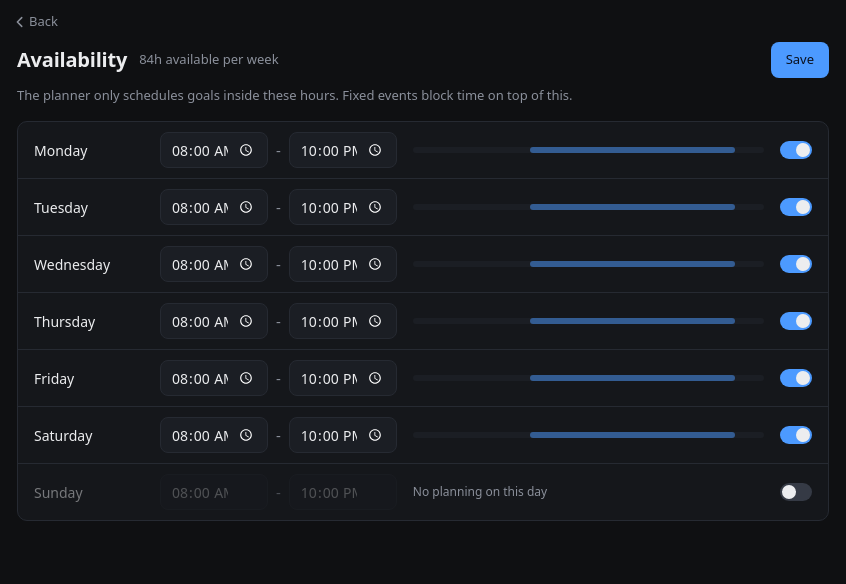
Test: AvailabilityPage per-day mode › validates open days only and sends all 7 days with closed, keeping closed days their times
Expected: the button "Save" is shown, [771,42,829,78]
Clear the time field named "Sunday end time" at (343,492), box [289,474,397,510]
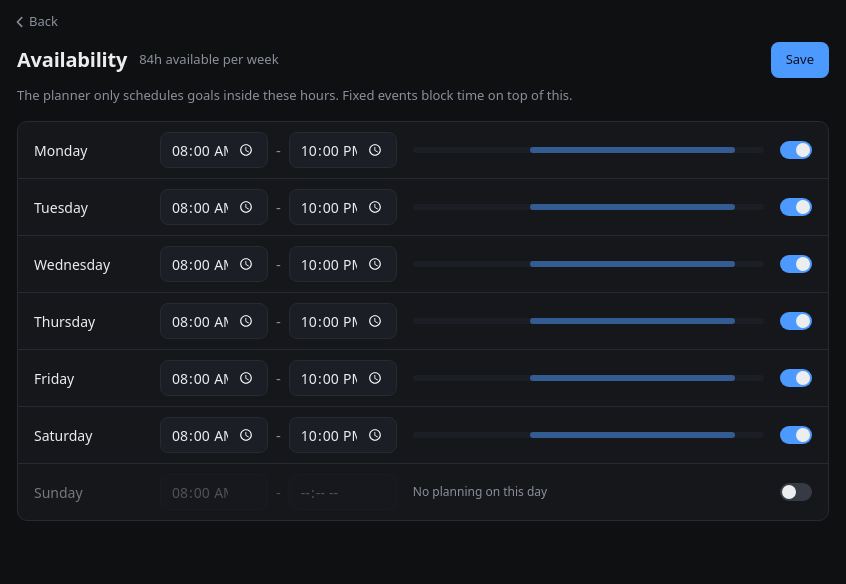
Replace the text in the time field named "Monday end time" with "07:00" at (343,150), box [289,132,397,168]
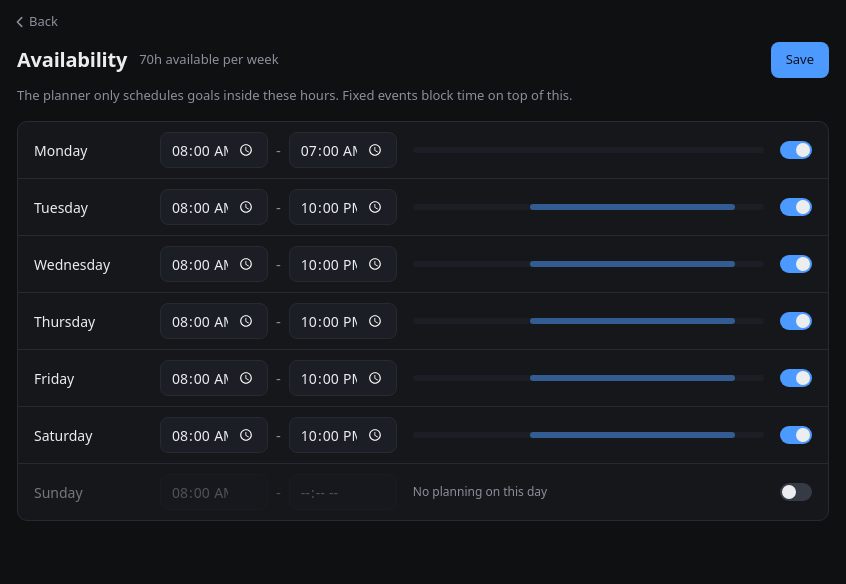
Click the button "Save" at (800,60), box [771,42,829,78]
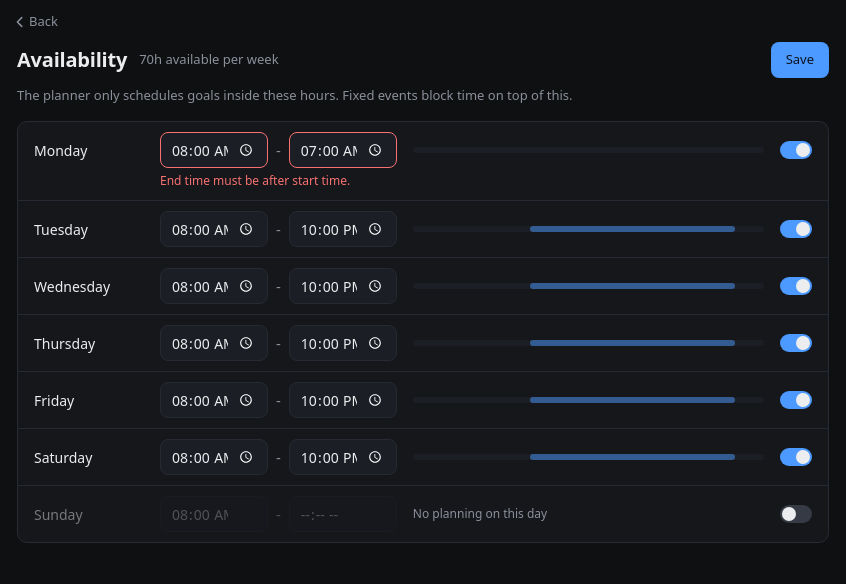
Result: the text "End time must be after start time." is shown once at [160,172,350,189]
Click the switch named "Plan on Monday" at (796,150), box [780,141,812,159]
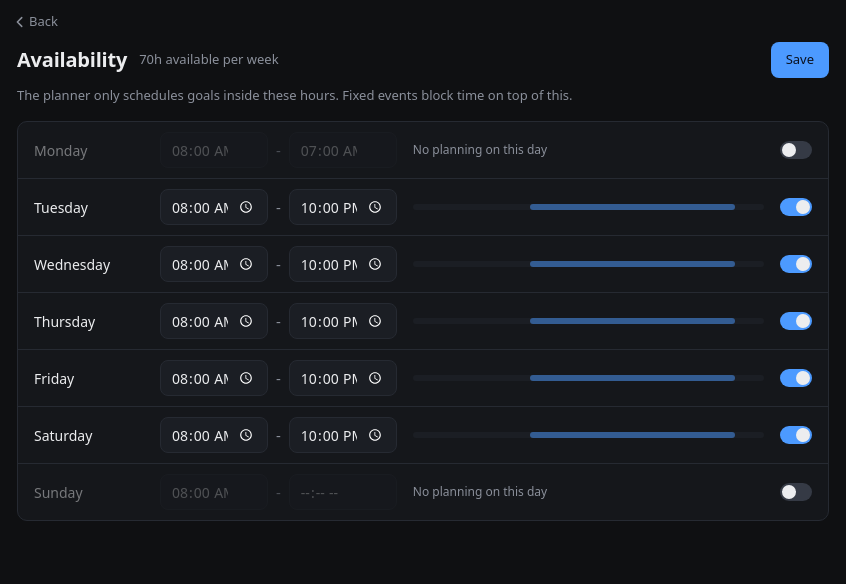
Click the button "Save" at (800,60), box [771,42,829,78]
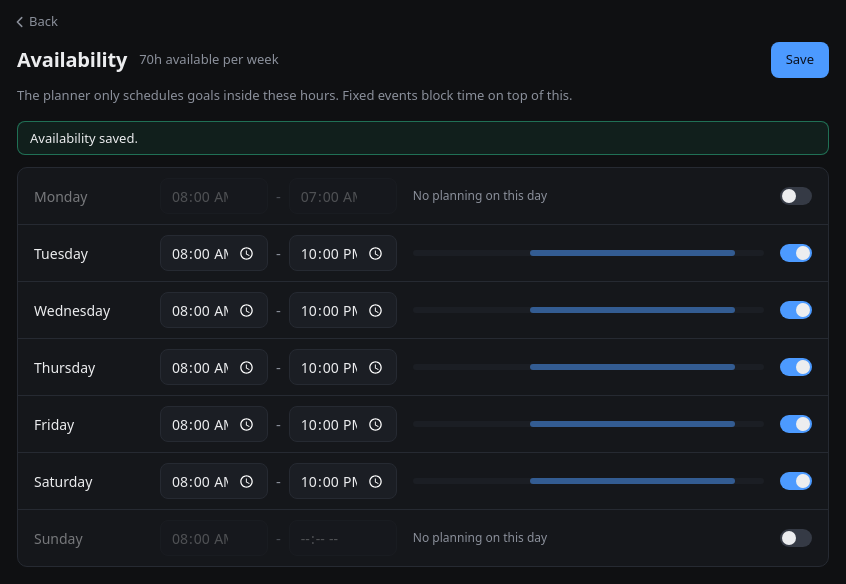
Result: the text "Availability saved." is shown at [17,121,829,155]
